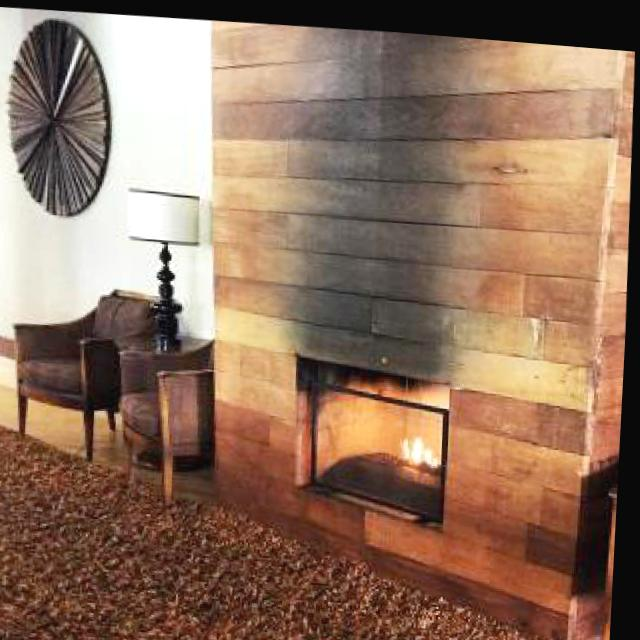Fire: (399, 411, 444, 464)
